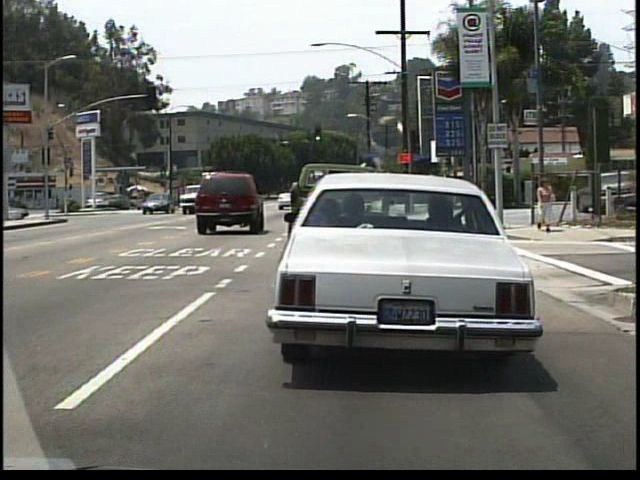person: (535, 175, 555, 236)
